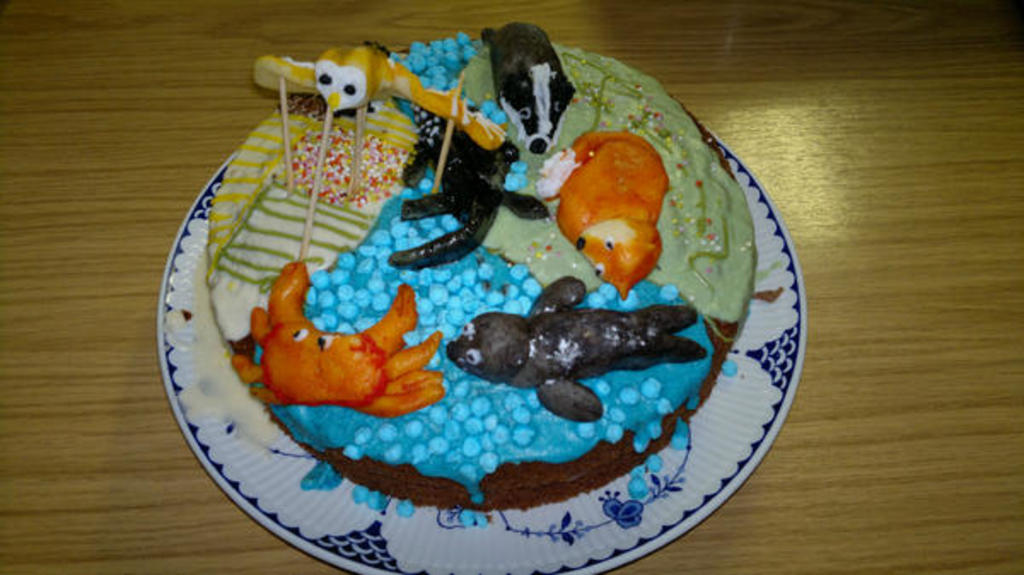cake: (205, 31, 758, 503)
